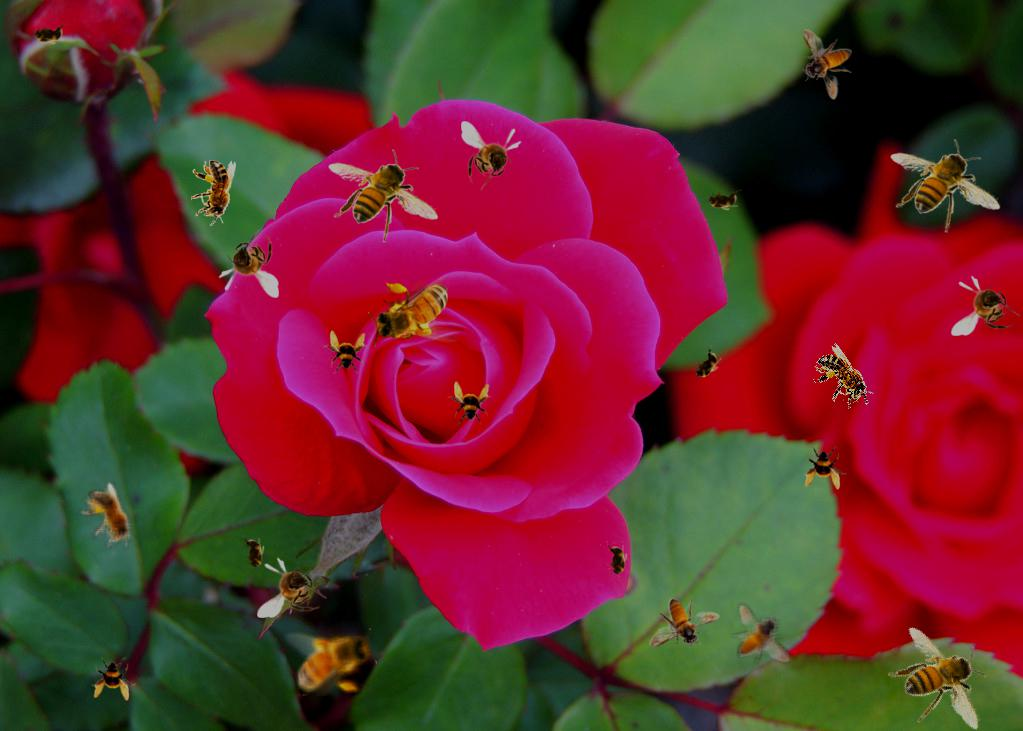Bee: (869, 613, 1014, 731), (890, 139, 1001, 233), (328, 149, 439, 243), (284, 628, 377, 696), (368, 279, 461, 347), (804, 341, 884, 420), (72, 479, 148, 560), (723, 594, 793, 677), (257, 557, 327, 618), (461, 121, 522, 191), (218, 228, 279, 298), (951, 275, 1021, 336), (649, 598, 720, 648), (802, 29, 852, 100), (191, 160, 236, 226), (684, 343, 728, 389), (803, 446, 847, 490), (92, 657, 136, 701), (447, 381, 491, 425), (323, 330, 367, 374), (241, 533, 267, 575), (702, 189, 742, 211), (28, 23, 68, 45), (606, 541, 628, 581)
